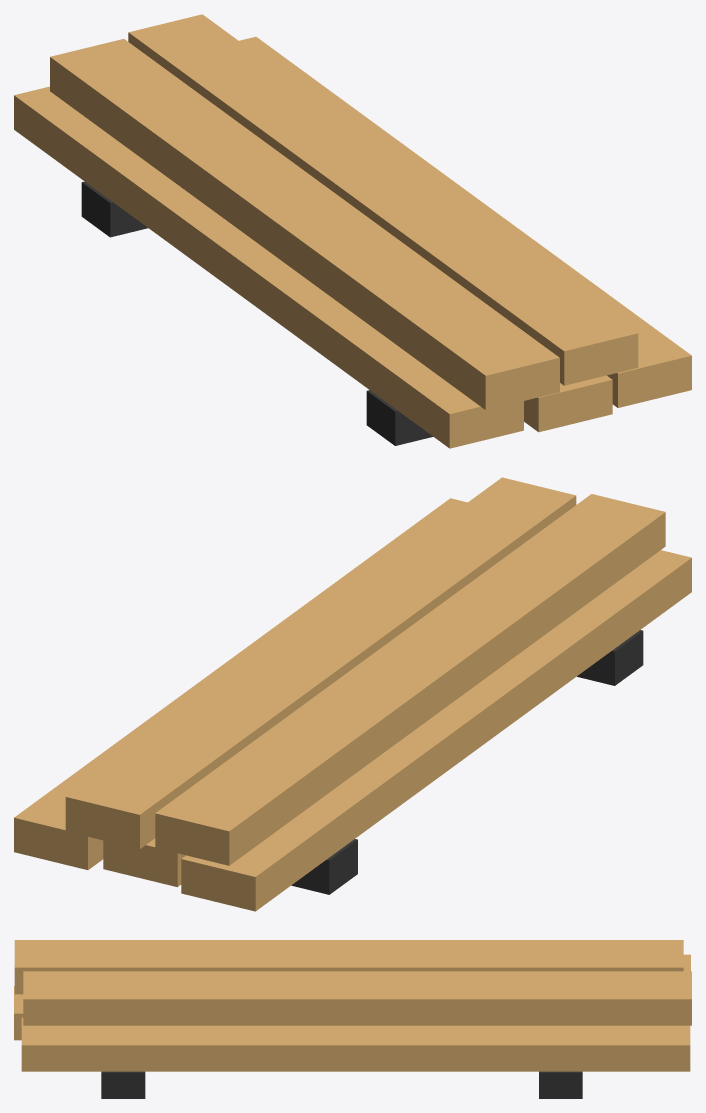
The model's file is planks-wood-a.glb.
3 renders of one model, top to bottom at view 1: azimuth 30°, elevation 25°; view 2: azimuth 150°, elevation 25°; view 3: azimuth 270°, elevation 25°, orthographic. The views are drawn at different scales.
Parts seen in each view (by area): view 1: Planks Wood V1; view 2: Planks Wood V1; view 3: Planks Wood V1.
Part boxes in pixels (x1,y1,x2,y2): Planks Wood V1: (14,14,691,448); Planks Wood V1: (14,477,691,911); Planks Wood V1: (14,940,691,1098).
Bounding box in the file's own units: 1.5 × 0.6 × 4.65.
1 material, 1 textured.
